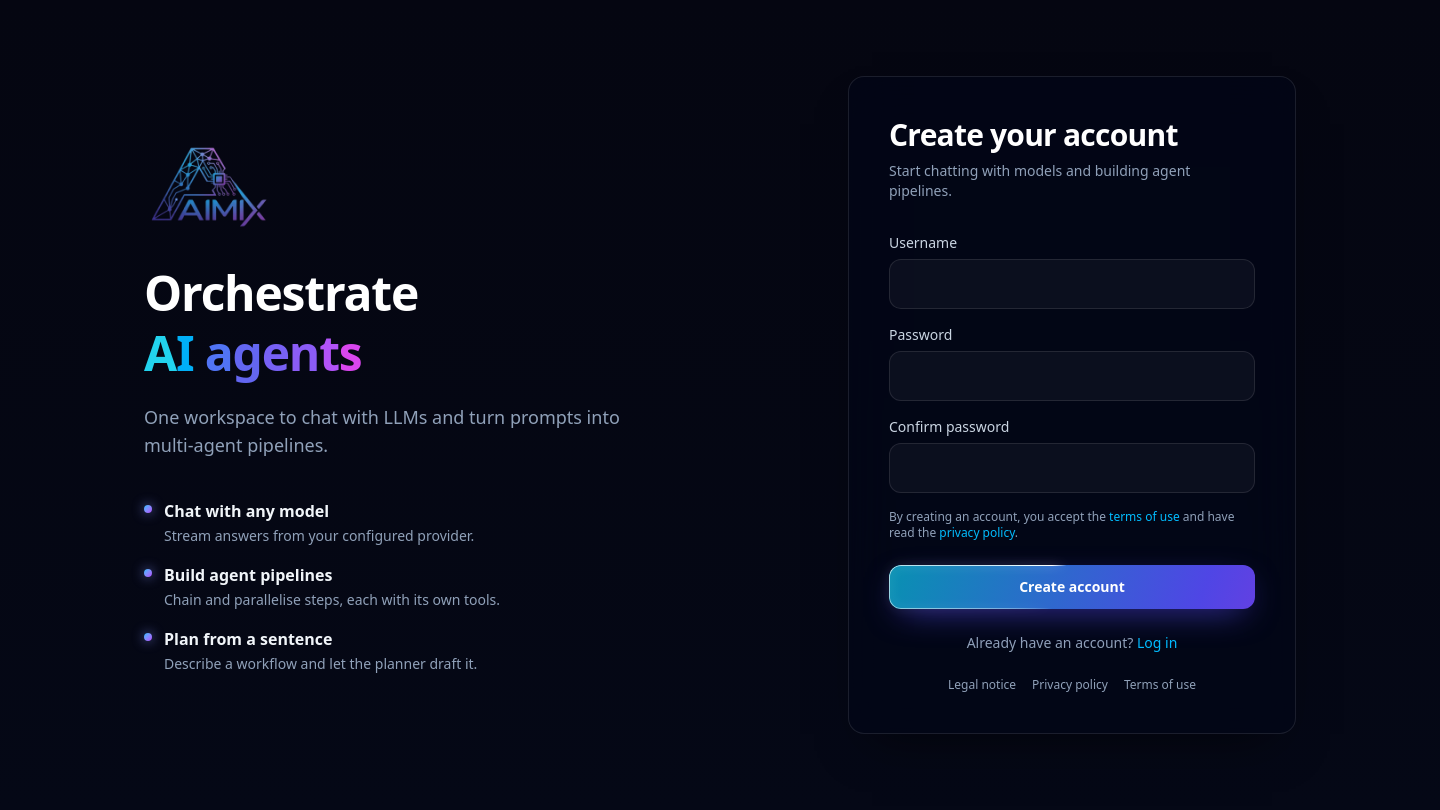
it: RegisterPage › does not ask the server anything when the two passwords differ
In the field labelled "Username": (1072, 284) [889,259,1255,309], type "alice"
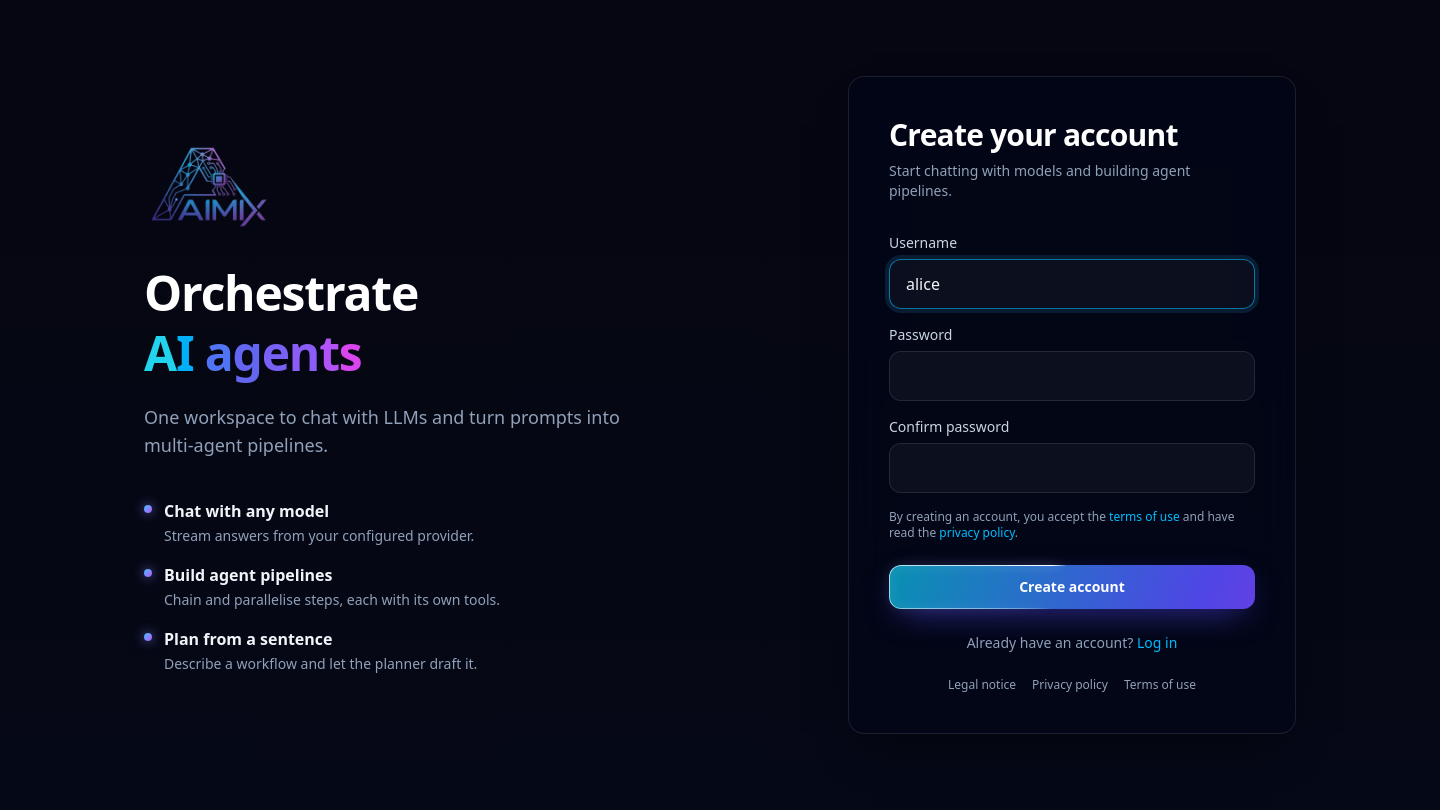
In the password field labelled "Password": (1072, 376) [889,351,1255,401], type "a-strong-pass-1"
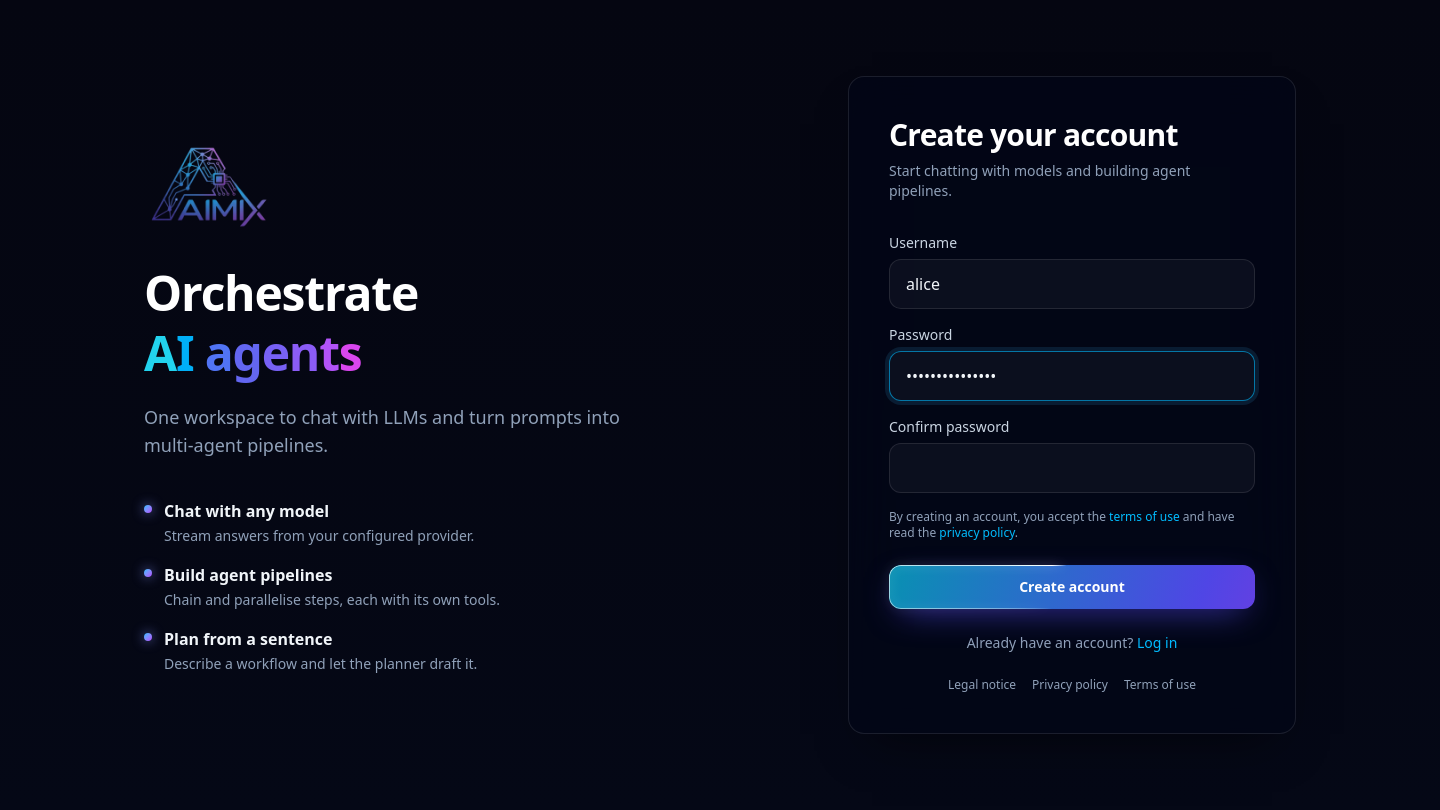
In the password field labelled "Confirm password": (1072, 468) [889,443,1255,493], type "another-pass-2"
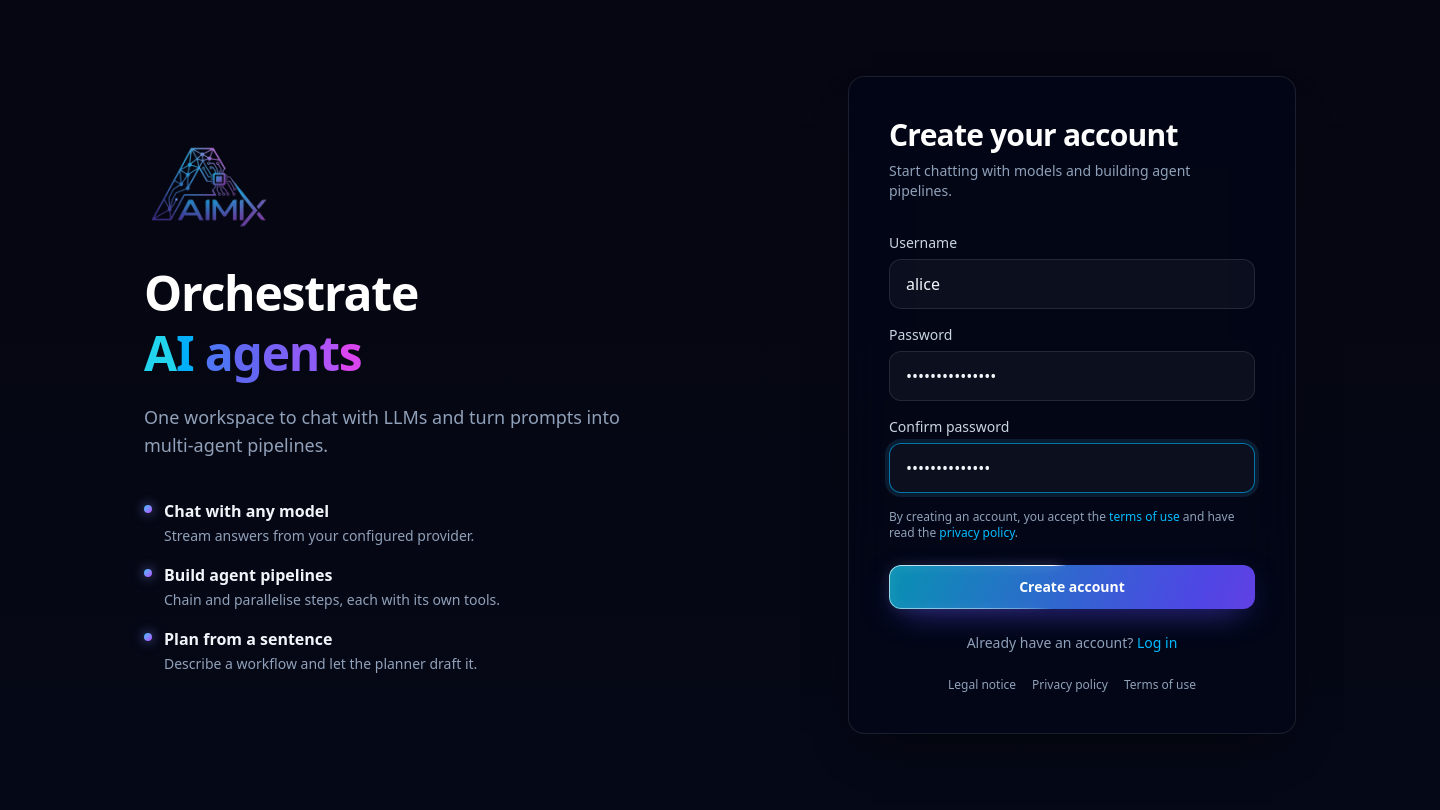
Click the button "Create account": (1072, 587) [889,565,1255,609]
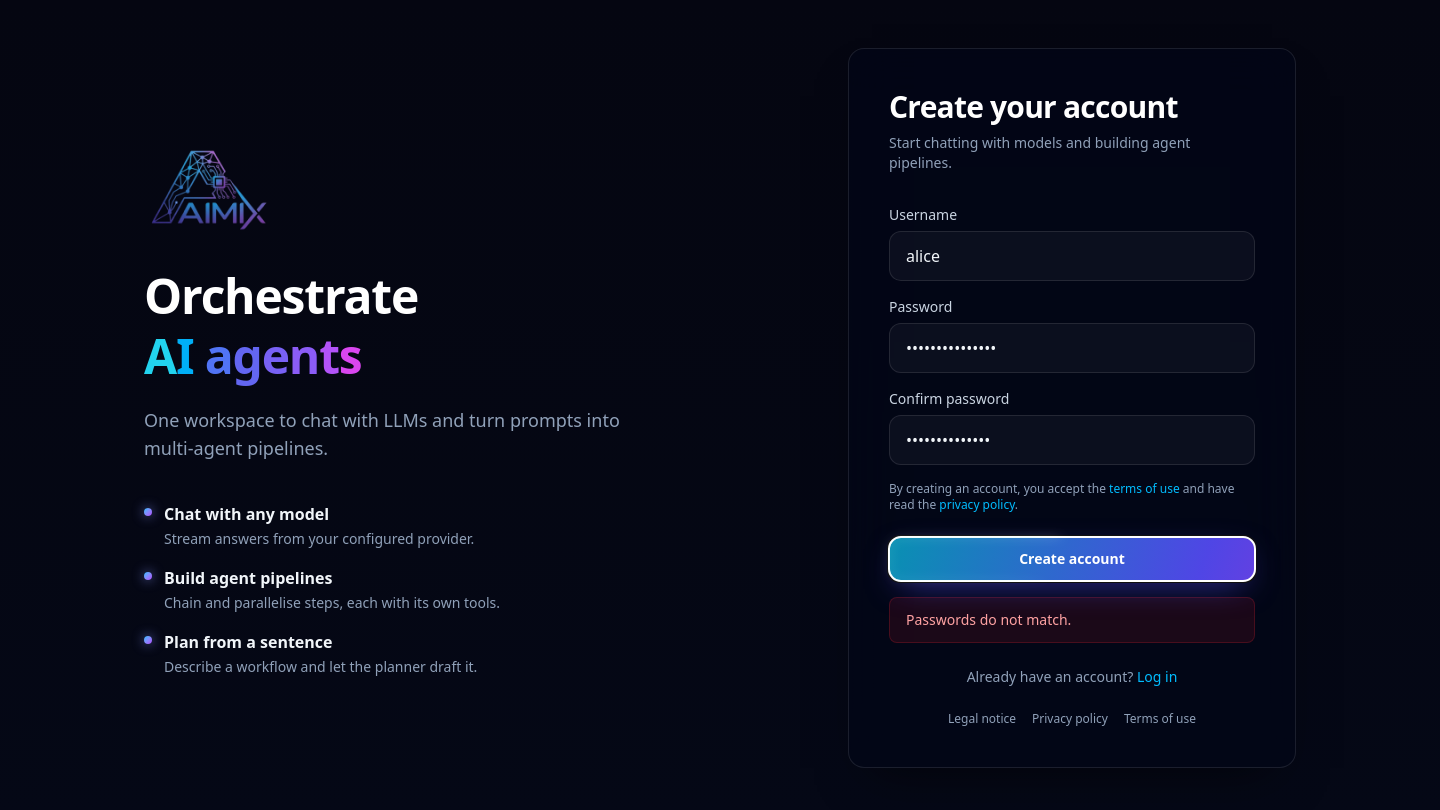
Result: the message reads "Passwords do not match." at [906,610,1071,629]
